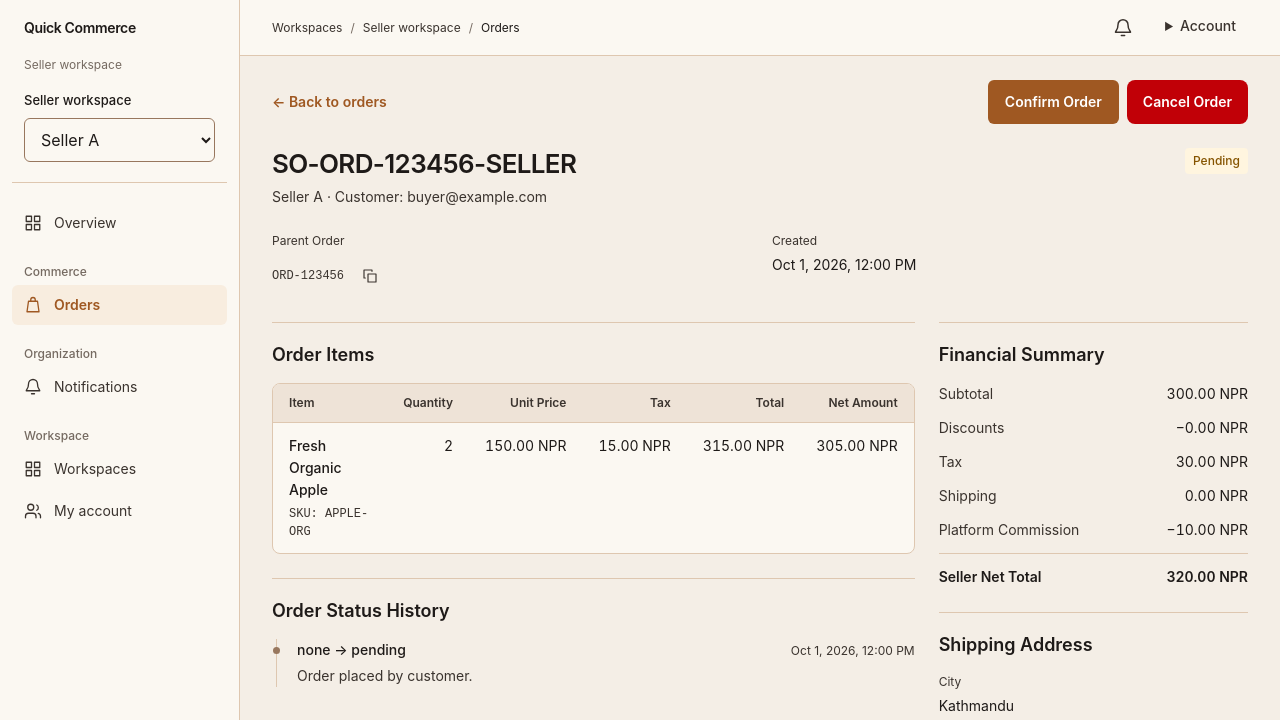
Test: Orders UI and permissions › renders seller order detail and performs confirm action
Check: the text "Fresh Organic Apple" is shown, box x1=289 y1=437 x2=342 y2=498
Click the button "Confirm Order": point(1053, 102) x1=988 y1=80 x2=1119 y2=124
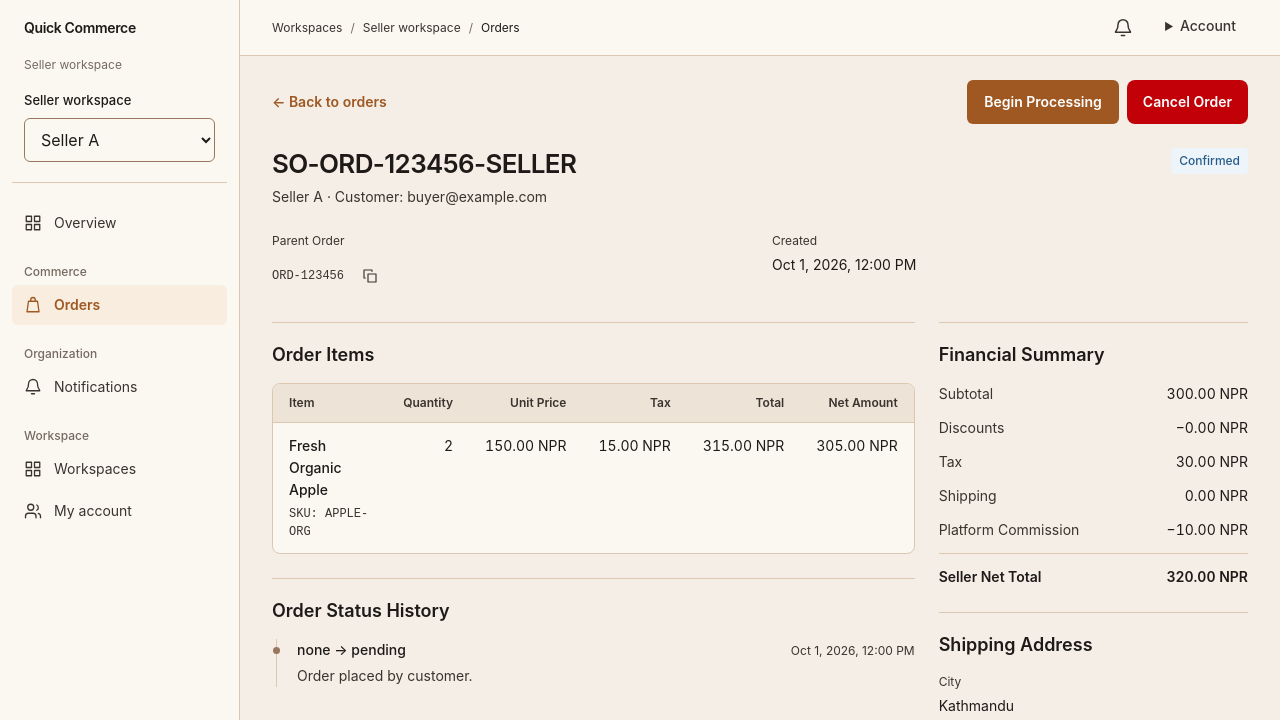
Check: the button "Begin Processing" is shown, box x1=967 y1=80 x2=1119 y2=124
